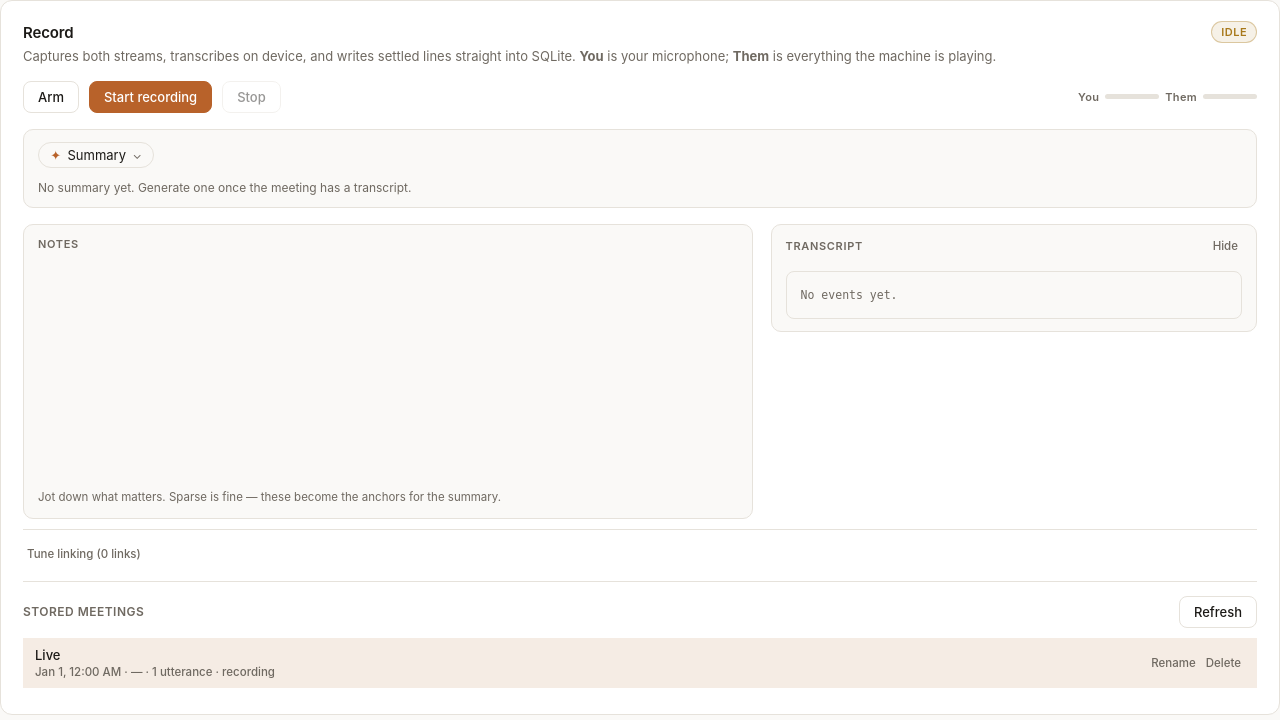
Test: RecordCard › surfaces a refusal to delete a live recording
The width and height of the screenshot is (1280, 720).
What coordinates should you click on to do the following:
click the button "Delete"
I would click on:
 (1223, 663)
Its box is [1202,654,1245,672].
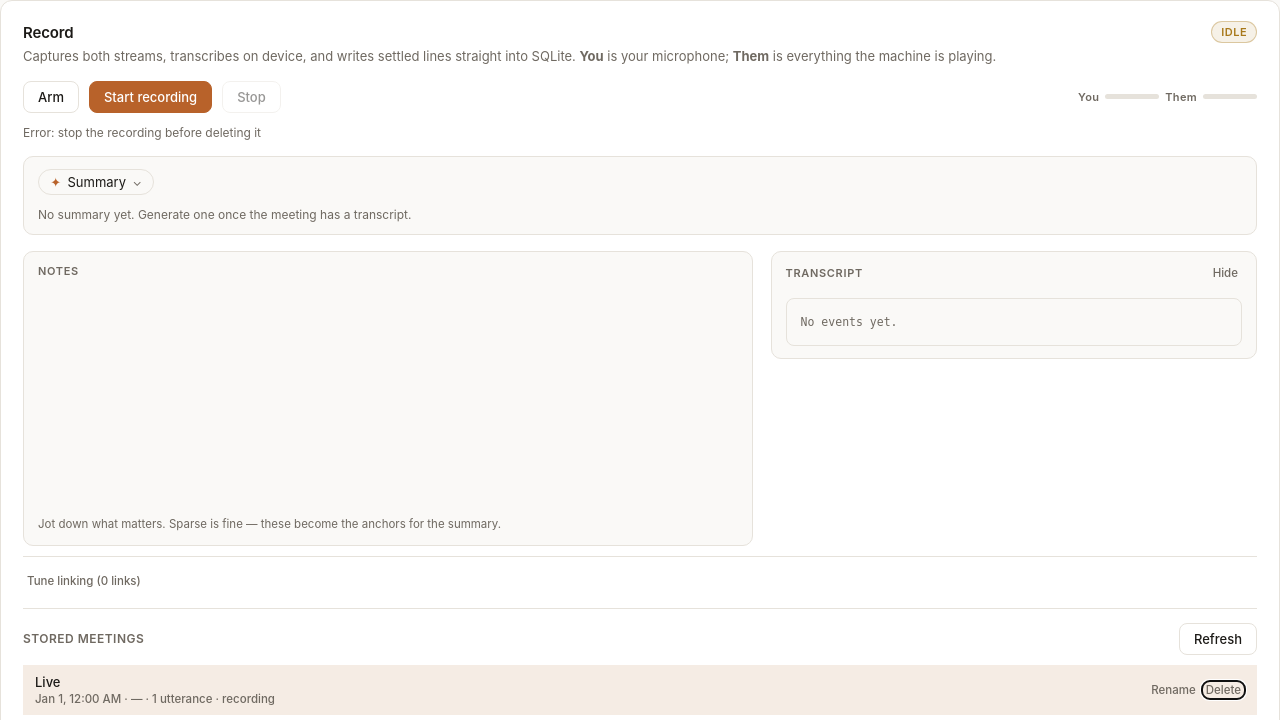
Expected: the text "Error: stop the recording before deleting it" is shown, [23,124,261,140]
